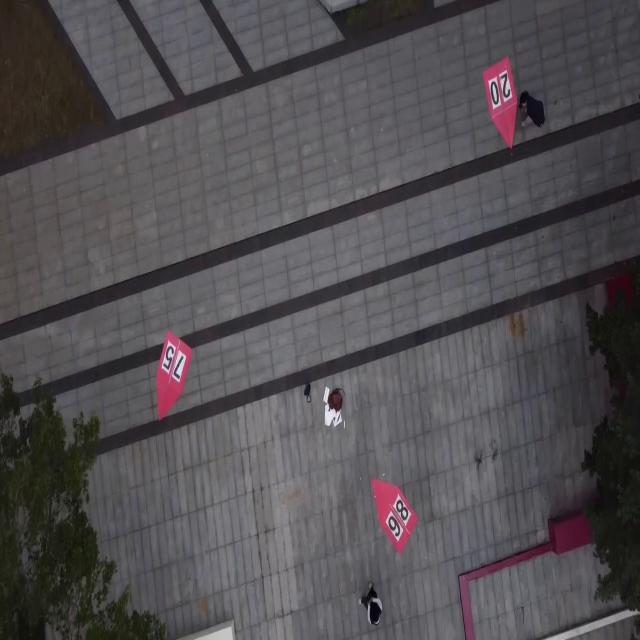-sign-: (364, 477, 426, 563), (482, 54, 518, 150), (156, 329, 192, 422)
